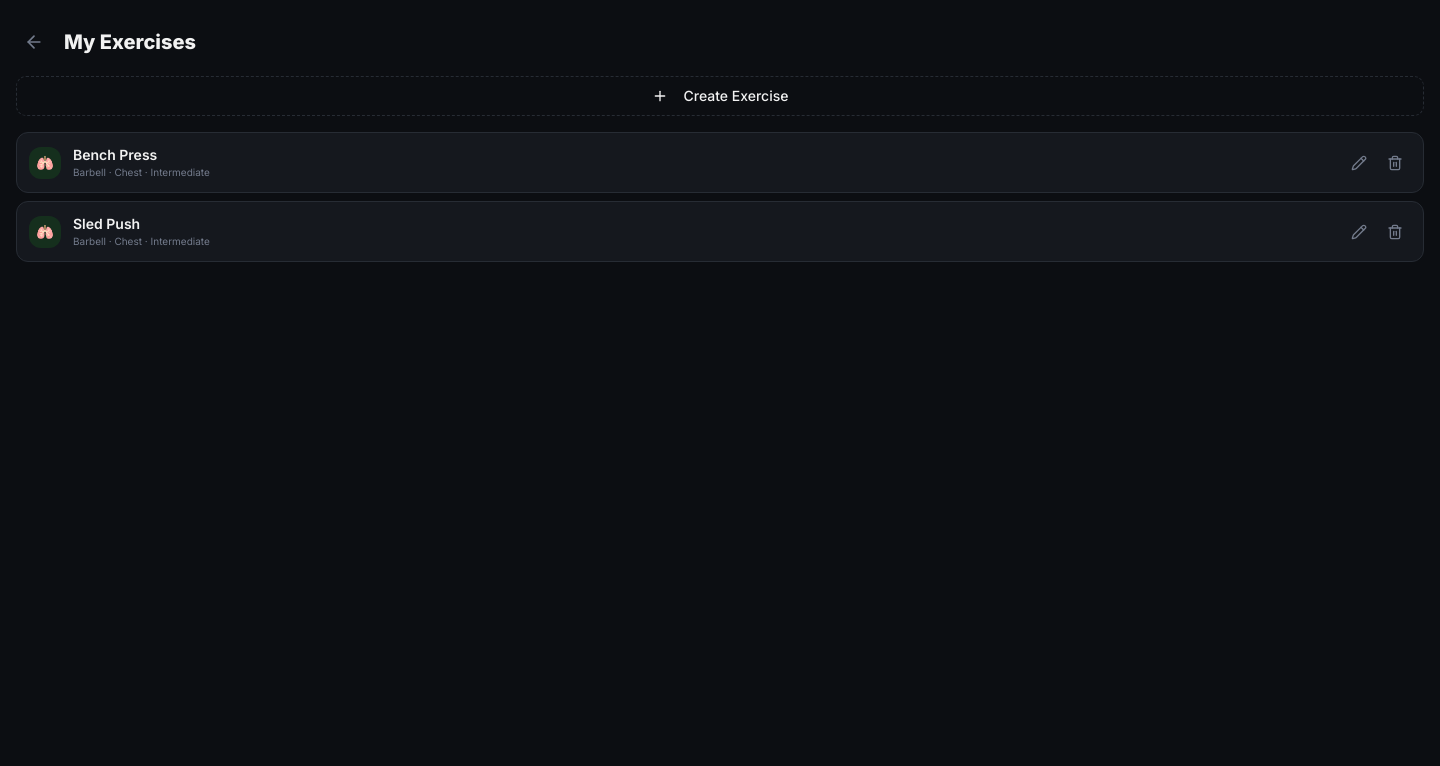
Test: editing a custom exercise › scrolls the editor into view, since it opens above the list
This screenshot has width=1440, height=766.
Click the button named "Edit Sled Push": [1359, 232] box [1343,216,1375,248]
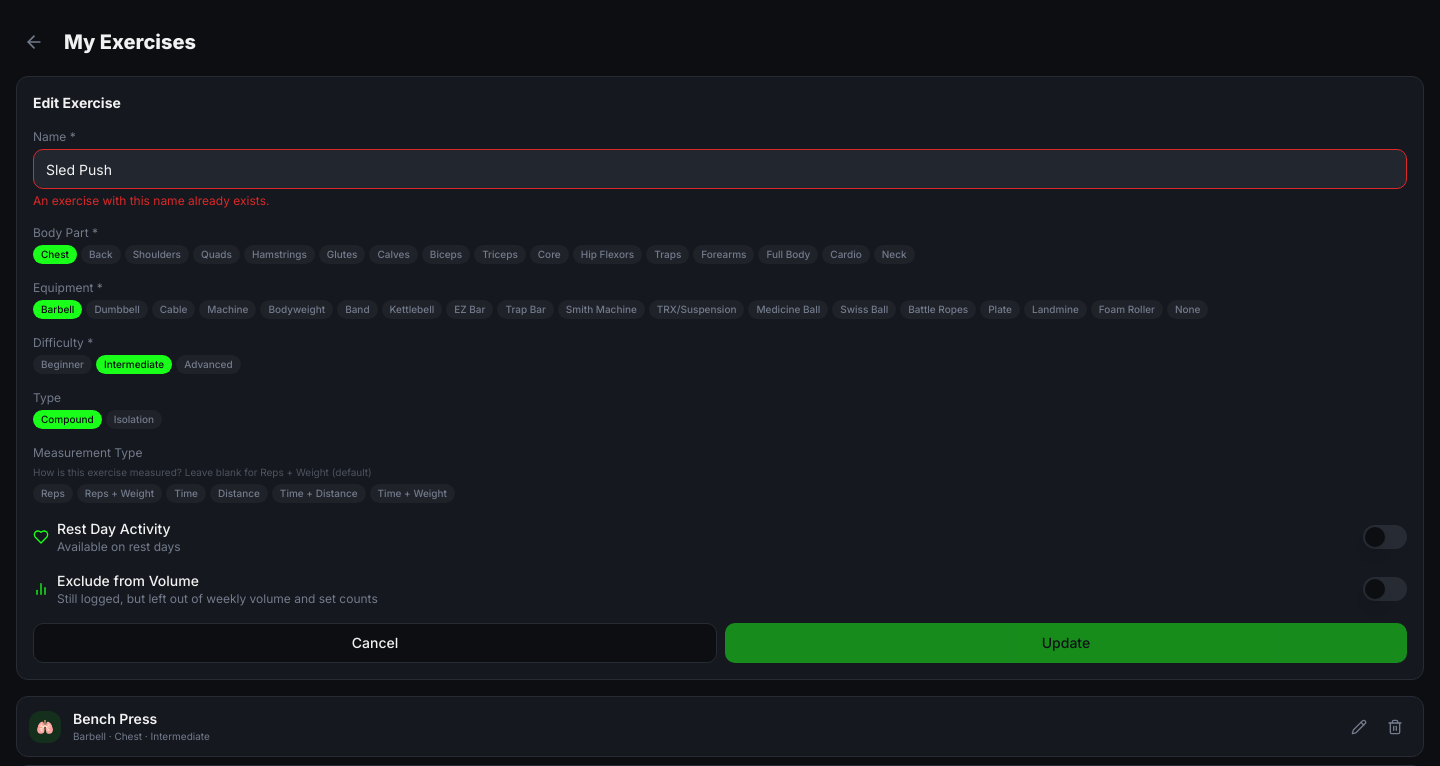
Expected: the text "Edit Exercise" is shown, [33,94,121,111]
